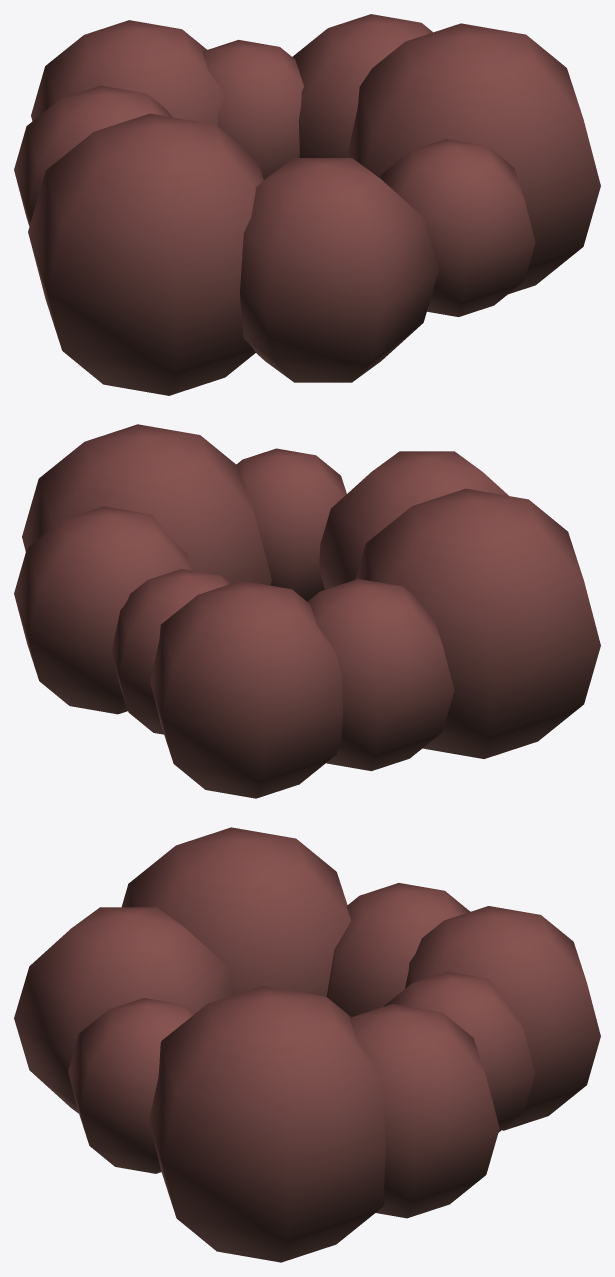
Rendered from WormsGround.fbx.
3 views of the same model, one above another, from view 1: azimuth 30°, elevation 25°; view 2: azimuth 150°, elevation 25°; view 3: azimuth 270°, elevation 25° (orthographic). The views are drawn at different scales.
Parts seen in each view (by area): view 1: WormsGround; view 2: WormsGround; view 3: WormsGround.
Boxes of the visible parts, bbox=[...] form: WormsGround: bbox=[14, 14, 600, 395]; WormsGround: bbox=[14, 424, 600, 798]; WormsGround: bbox=[14, 827, 600, 1262].
Bounding box in the file's own units: 1.3 × 0.5621 × 1.18.
